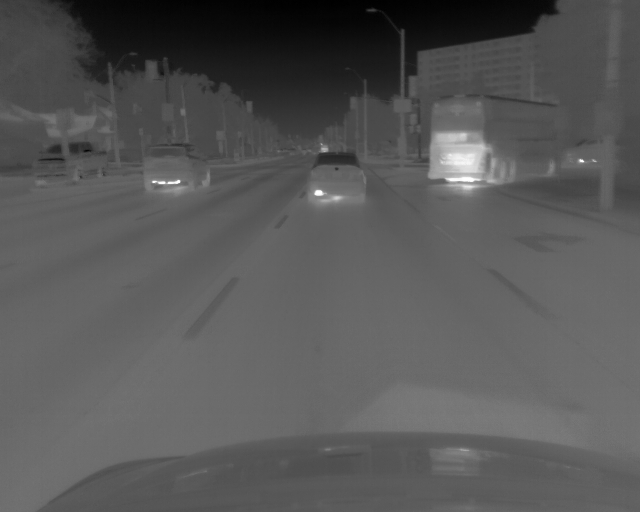car: (428, 95, 563, 187), (141, 143, 212, 195), (33, 143, 109, 187), (307, 153, 366, 209), (565, 136, 610, 165)
